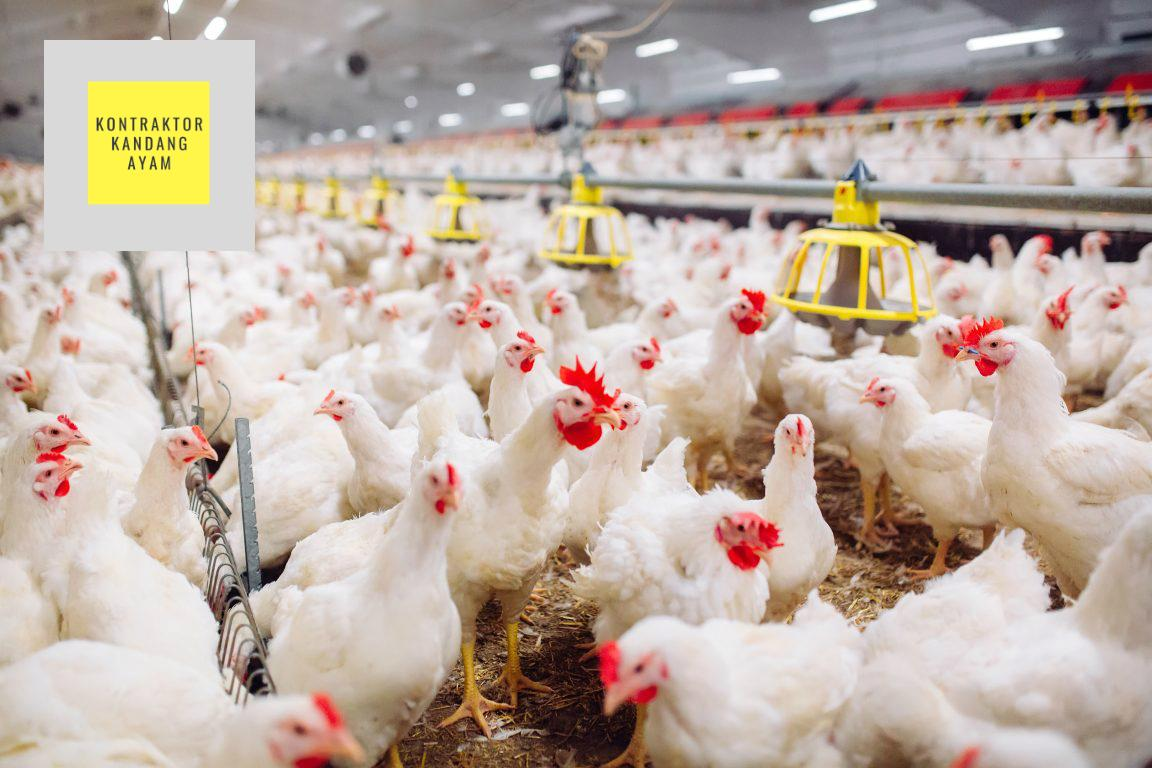chicken: (266, 463, 466, 749), (421, 364, 624, 621), (954, 316, 1152, 552), (606, 614, 859, 765), (802, 313, 973, 536), (655, 414, 840, 577), (857, 376, 1003, 581), (574, 507, 790, 634), (655, 289, 779, 444), (317, 381, 489, 476), (137, 423, 221, 576)
